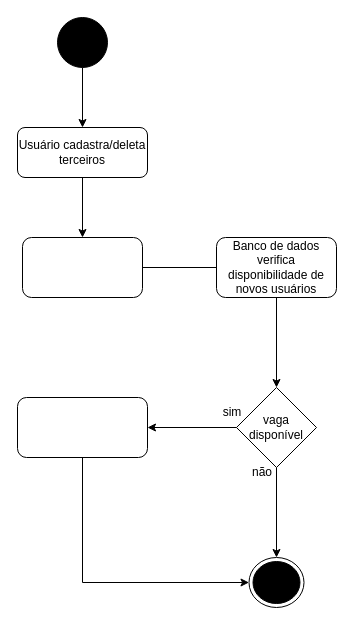
Image size: 354x625. Some labels were removed from this diagram. The shapes that lost their labels are listed below. From the top down, each one's centre as x and y in pixels, then its label:
At pixel 82 267: "Sistema envia informações para banco de dados".
At pixel 82 427: "Sistema informa cadastro válido".
